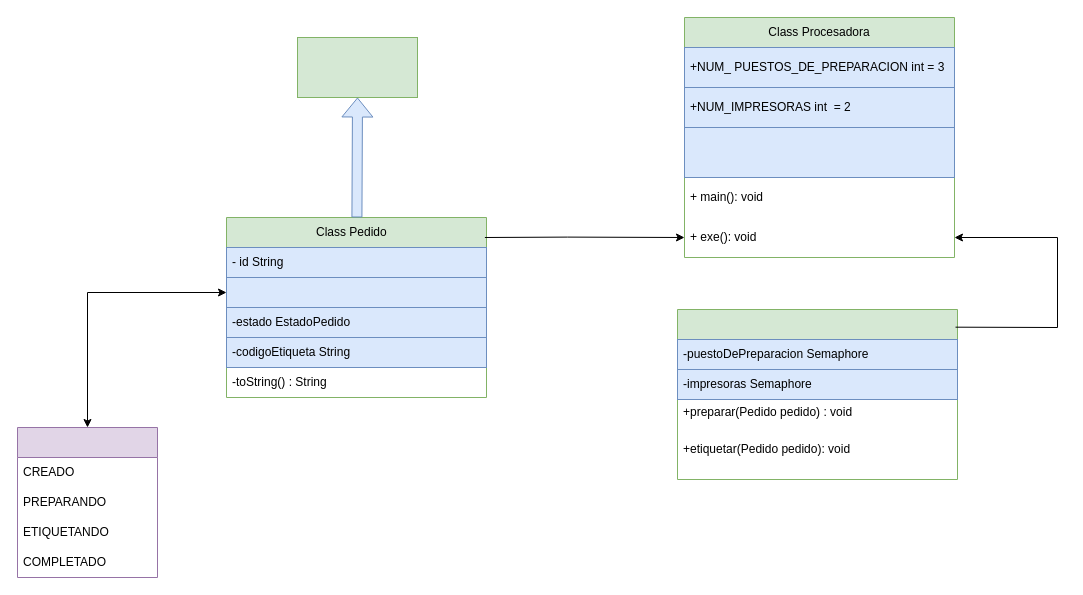
Image size: 1083x595. Some labels were removed from this diagram. Here are the shapes that lost their labels. From the top down, the box of each, then its label:
(296, 36, 418, 98): Thread
(684, 126, 954, 178): +NUM_PEDIDOS = 12
(226, 276, 486, 308): - cantidadProducto int = random(1, 10)
(676, 308, 958, 480): Class Recursos
(16, 426, 158, 578): Enum EstadoPedido
